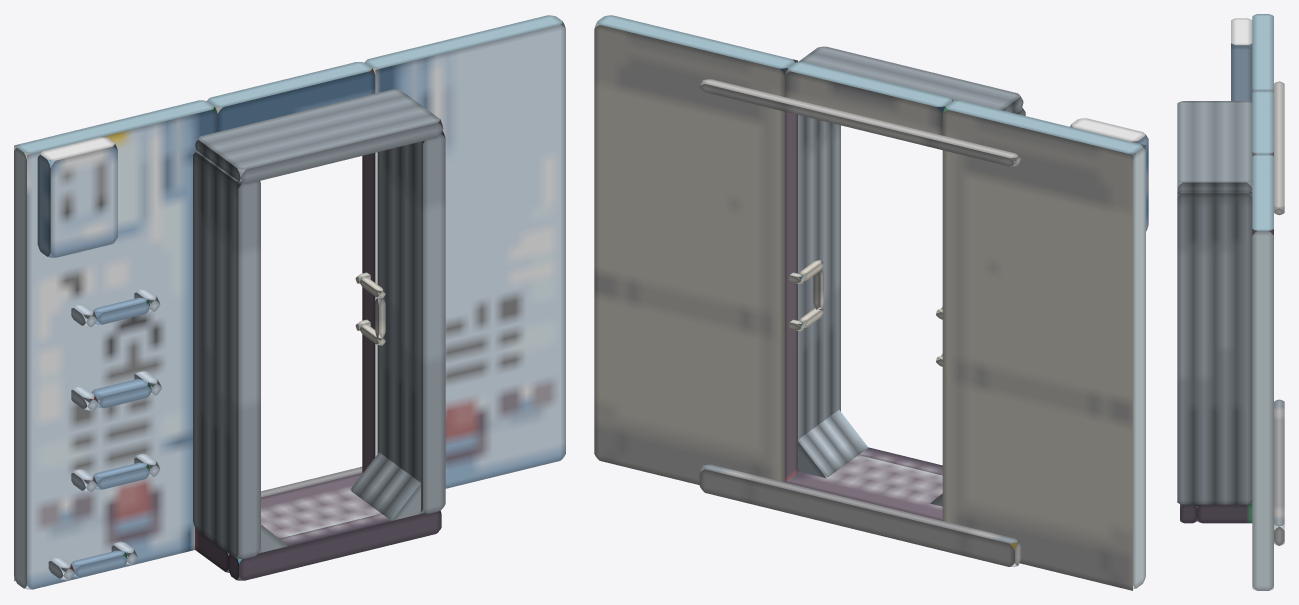
Rendered from end_face_original_25t_3.obj.
The picture shows the model from 3 angles, left to right: view 1: azimuth 30°, elevation 25°; view 2: azimuth 150°, elevation 25°; view 3: azimuth 270°, elevation 25°; orthographic projection. The views are drawn at different scales.
Parts seen in each view (by area): view 1: cube_selection_selection; view 2: cube_selection_selection; view 3: cube_selection_selection.
Boxes of the visible parts, x1,y1,x2,y2 form: cube_selection_selection: [14, 15, 565, 589]; cube_selection_selection: [594, 15, 1148, 590]; cube_selection_selection: [1177, 14, 1284, 590].
Bounding box in the file's own units: 2.99 × 2.31 × 0.625.
